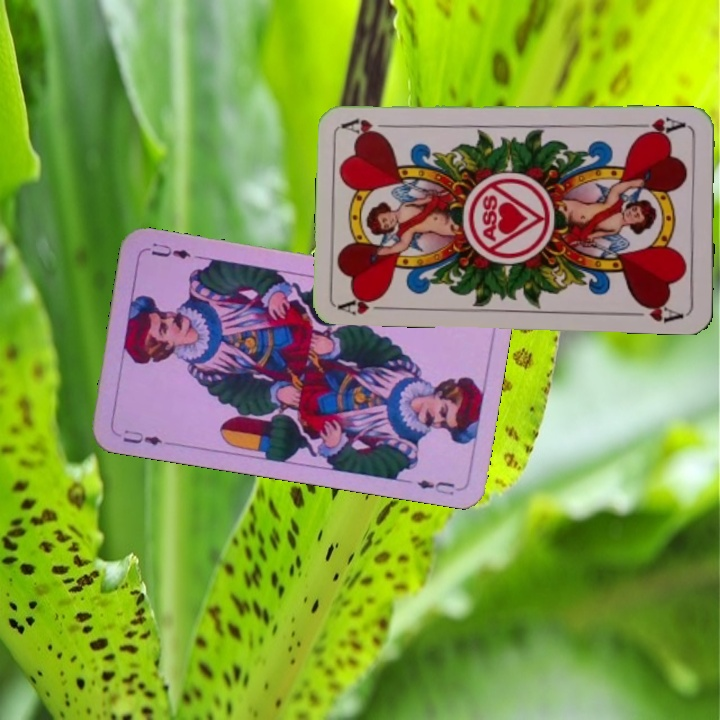EU: (118, 425, 165, 448)
HA: (632, 113, 691, 140), (337, 290, 396, 317)
